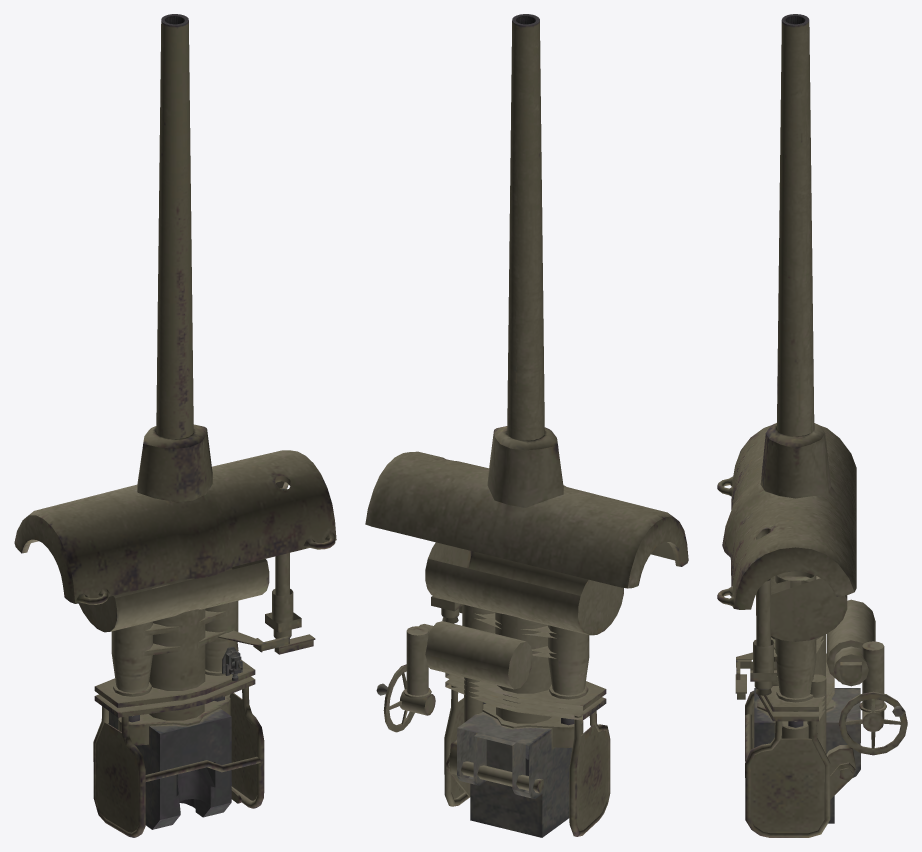
Rendered from Gun_04.glb.
3 views of the same model, side by side, from view 1: azimuth 30°, elevation 25°; view 2: azimuth 150°, elevation 25°; view 3: azimuth 270°, elevation 25° (orthographic).
Visible parts, largest first — view 1: set_0_group_0; view 2: set_0_group_0; view 3: set_0_group_0.
Part boxes in pixels (<box>): set_0_group_0: <box>14,14,336,837</box>; set_0_group_0: <box>365,14,688,837</box>; set_0_group_0: <box>717,14,907,837</box>.
Bounding box in the file's own units: 1.22 × 3.46 × 0.7601.
Materials: 1 (1 with a texture image).
